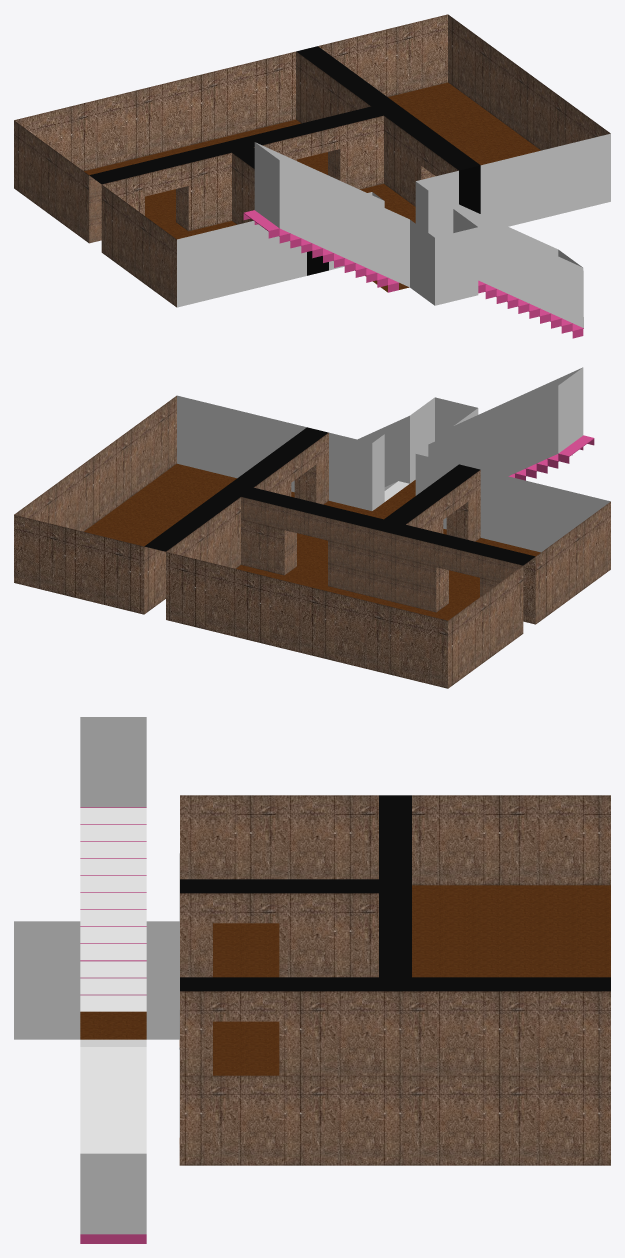
The model's file is floor_base.fbx.
3 views of the same model, one above another, from view 1: azimuth 30°, elevation 25°; view 2: azimuth 150°, elevation 25°; view 3: azimuth 270°, elevation 25° (orthographic). The views are drawn at different scales.
Parts seen in each view (by area): view 1: blocker, room3_walls, room4_walls, room2_walls, room1_walls, interior_separator, room4_floor, room4_separator, room3_floor, stairs_upper, stairs_lower, room1_floor; view 2: blocker, room3_walls, interior_separator, room4_walls, room2_walls, room4_floor, room4_separator, room1_walls, room1_floor, room3_floor, room2_floor, stairs_upper (+1 smaller); view 3: room4_walls, blocker, room3_floor, room3_walls, room2_walls, room1_walls, interior_separator, room4_separator, room1_floor, room2_floor, entrance_floor, stairs_upper.
Part boxes in pixels (bbox=[...]): blocker: bbox=[177, 133, 610, 327]; room3_walls: bbox=[14, 51, 370, 242]; room4_walls: bbox=[318, 14, 610, 150]; room2_walls: bbox=[101, 152, 254, 307]; room1_walls: bbox=[254, 115, 458, 206]; interior_separator: bbox=[89, 106, 383, 275]; room4_floor: bbox=[388, 82, 540, 165]; room4_separator: bbox=[296, 46, 480, 213]; room3_floor: bbox=[84, 119, 327, 226]; stairs_upper: bbox=[243, 210, 398, 292]; stairs_lower: bbox=[478, 280, 583, 338]; room1_floor: bbox=[360, 184, 415, 223]; blocker: bbox=[177, 367, 610, 552]; room3_walls: bbox=[166, 497, 523, 688]; interior_separator: bbox=[241, 464, 535, 616]; room4_walls: bbox=[14, 395, 176, 614]; room2_walls: bbox=[406, 470, 610, 624]; room4_floor: bbox=[84, 463, 294, 546]; room4_separator: bbox=[144, 427, 328, 551]; room1_walls: bbox=[254, 433, 328, 504]; room1_floor: bbox=[291, 501, 446, 579]; room3_floor: bbox=[236, 565, 452, 620]; room2_floor: bbox=[449, 538, 540, 607]; stairs_upper: bbox=[508, 435, 594, 480]; room4_walls: bbox=[179, 991, 610, 1165]; blocker: bbox=[14, 717, 179, 1234]; room3_floor: bbox=[412, 885, 610, 977]; room3_walls: bbox=[412, 795, 610, 885]; room2_walls: bbox=[180, 795, 378, 879]; room1_walls: bbox=[179, 893, 378, 1047]; interior_separator: bbox=[180, 795, 411, 977]; room4_separator: bbox=[179, 977, 610, 1075]; room1_floor: bbox=[179, 1021, 279, 1067]; room2_floor: bbox=[213, 923, 279, 969]; entrance_floor: bbox=[80, 1011, 146, 1039]; stairs_upper: bbox=[80, 807, 146, 995].
Size of the model in its own units: 640 by 352 by 576.
